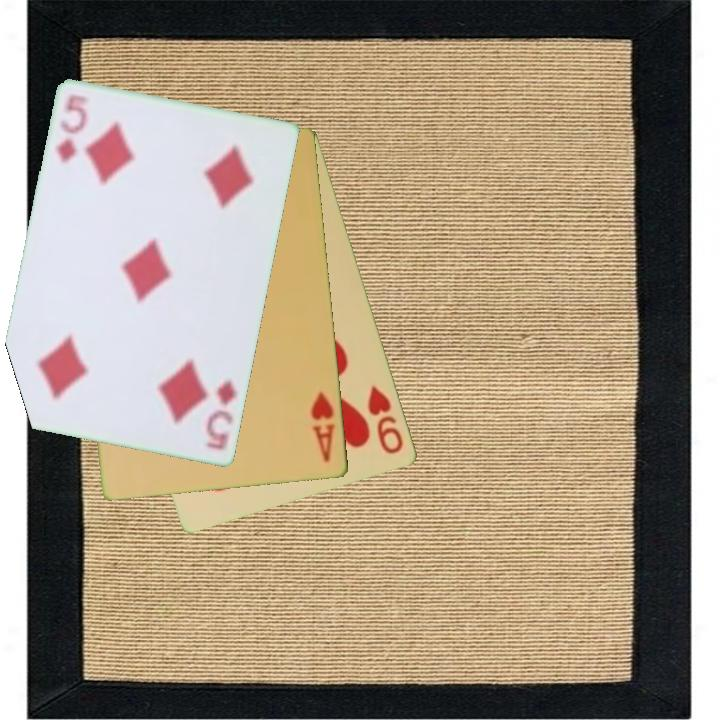5d: (53, 91, 92, 167), (203, 376, 240, 453)
9h: (364, 383, 407, 458)
Ah: (308, 389, 338, 466)
